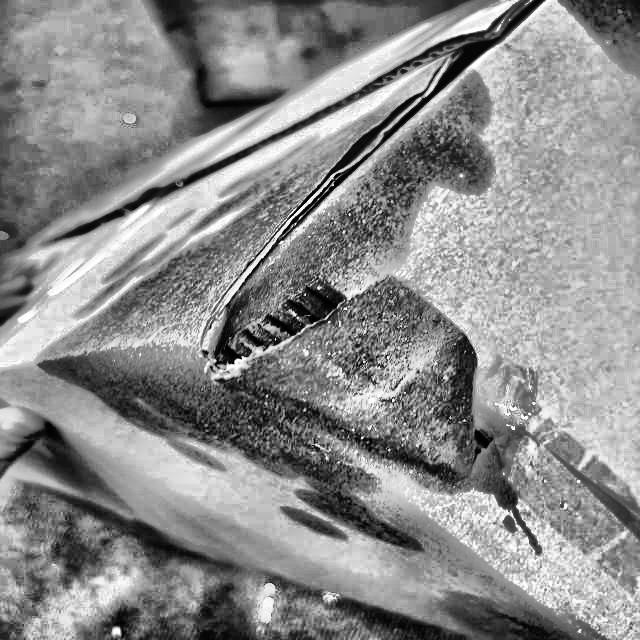box: (0, 0, 639, 639)
wet: (55, 55, 521, 546)
